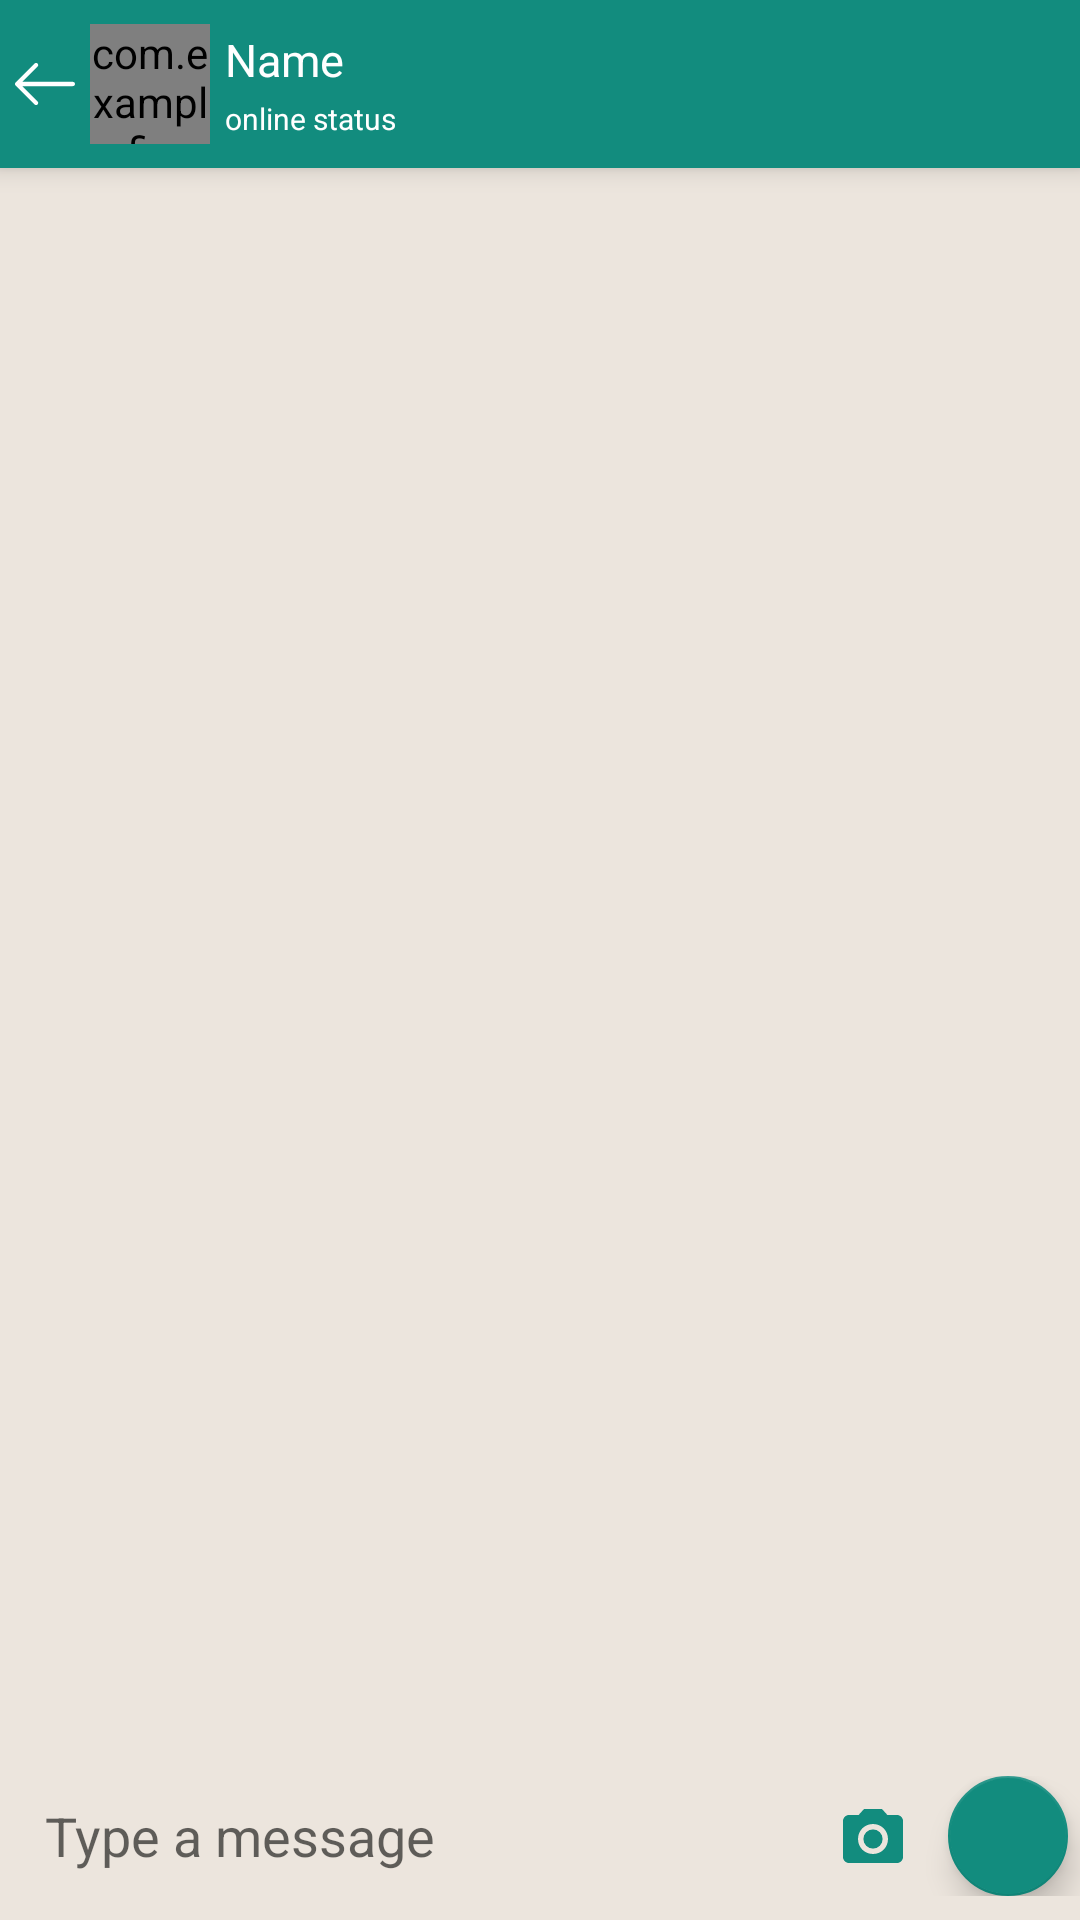

Screen size 1080px×1920px. Icon name, then its box in pixels as (x1, y1, x2, y2):
camera: (843, 1809, 903, 1863)
left arrow: (15, 63, 75, 105)
